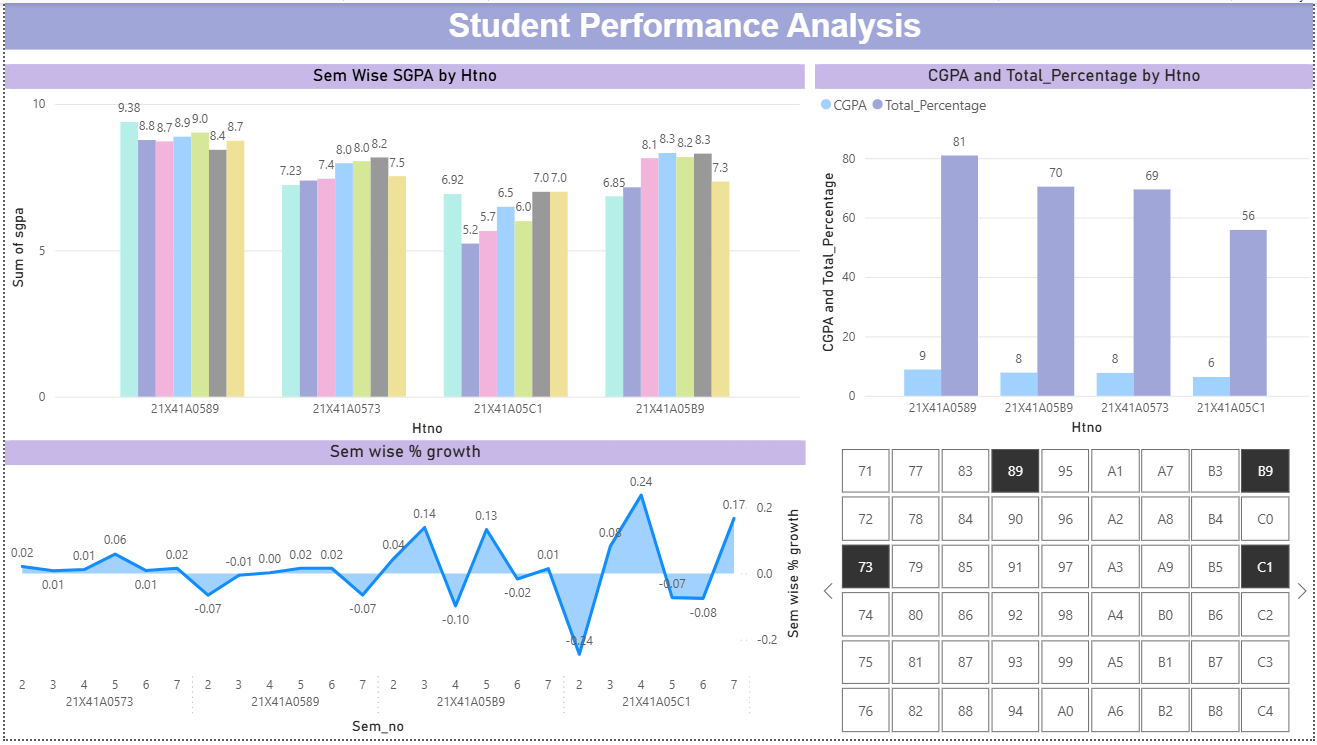

The dashboard page shown, as its layout file describes it:
{"tool":"powerbi","page":{"name":"Student_Analysis","canvas":[1280,720],"ordinal":0},"visuals":[{"type":"clusteredColumnChart","title":"Sem Wise SGPA by Htno","fields":{"Y":["Sum(sem_1.sgpa)","Sum(sem_2.sgpa)","Sum(sem_3.sgpa)","Sum(sem_5.sgpa)","Sum(sem_6.sgpa)","Sum(sem_7.sgpa)","Sum(sem_4.sgpa)"],"Category":["sem_1.Htno"]},"box":[0,59.9,782.6,369.3],"z":0},{"type":"slicer","title":"Hallticket Number","fields":{"Values":["sem_1.Hallticket_num"]},"box":[792.4,429.2,487.9,291],"z":1000},{"type":"clusteredColumnChart","fields":{"Category":["sem_1.Htno"],"Y":["All_sems.CGPA","All_sems.Total_Percentage"]},"box":[792.4,59.9,487.9,368.1],"z":2000},{"type":"areaChart","title":"Sem wise % growth","fields":{"Category":["All_sems.Student_Hierarchy .Htno","All_sems.Student_Hierarchy .Sem_no"],"Y2":["All_sems.Sem wise % growth"]},"box":[0,428.5,783.3,292.2],"z":3000},{"type":"textbox","box":[0,0,1280,45.9],"z":4000}]}

Visuals, with their boxes in screenshot pixels (x1, y1, x2, y2), scaled from the page's 1280x720 canvas onto the 1317x745 screenshot:
"Sem Wise SGPA by Htno" clusteredColumnChart: (left=0, top=62, right=805, bottom=444)
"Hallticket Number" slicer: (left=815, top=444, right=1316, bottom=744)
clusteredColumnChart - sem_1.Htno x All_sems.CGPA: (left=815, top=62, right=1316, bottom=443)
"Sem wise % growth" areaChart: (left=0, top=443, right=806, bottom=744)
textbox: (left=0, top=0, right=1316, bottom=47)
